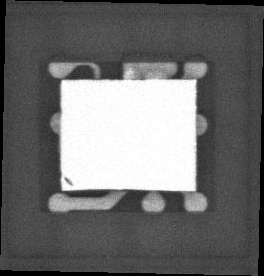DIE_INK: (59, 184, 70, 196)
